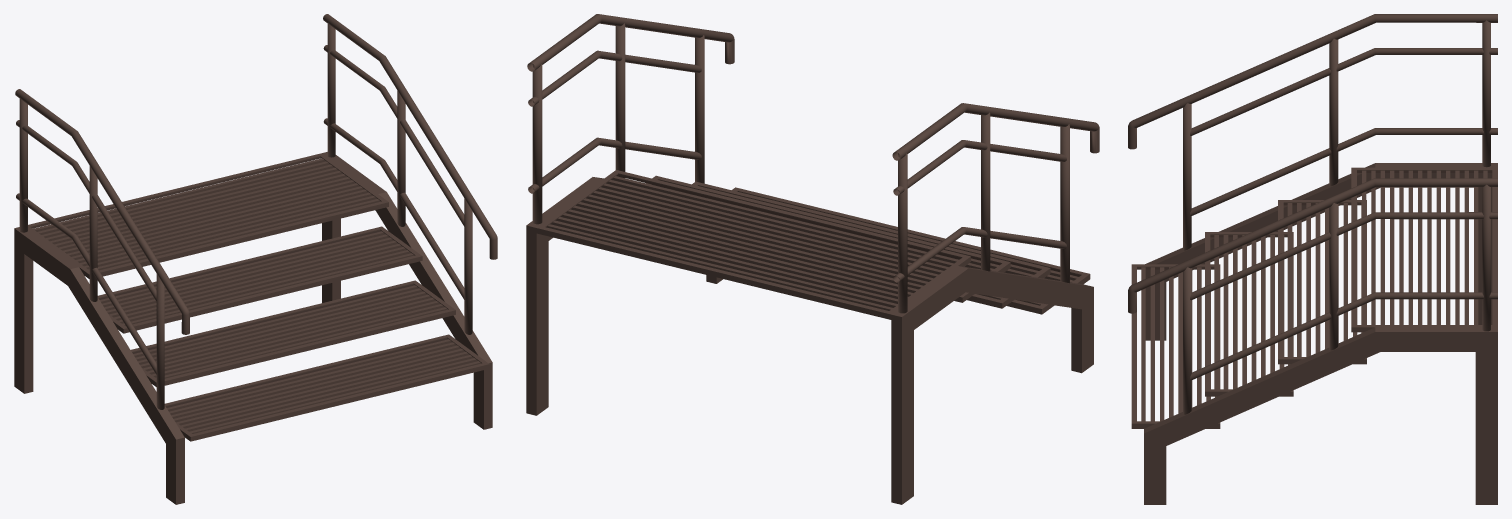
Rendered from entrance-stairs-porch-perron-stoop-with-railings.fbx.
3 renders of one model, left to right at view 1: azimuth 30°, elevation 25°; view 2: azimuth 150°, elevation 25°; view 3: azimuth 270°, elevation 25°, orthographic. The views are drawn at different scales.
Parts seen in each view (by area): view 1: Cube003_4, Cube001_41, Cube002_46, Cube_51, Cube004_35, Cube005_5, Cube011_36, Cube018_25, Cube021_30, Plane001_37, Plane009_42, Plane002_47 (+19 smaller); view 2: Cube003_4, Cube005_5, Cube008_8, Plane015_2, Cube004_35, Cube021_30, Cube018_25, Cube007_7, Plane013_0, Cylinder003_19, Cube006_6, Cylinder004_20 (+12 smaller); view 3: Cube003_4, Cube011_36, Cube002_46, Cube001_41, Cube_51, Cube018_25, Cube021_30, Cube008_8, Cube010_10, Cube004_35, Cube023_32, Cube022_31 (+19 smaller).
Boxes of the visible parts, x1,y1,x2,y2 form: Cube003_4: (33,158,380,270); Cube001_41: (167,339,481,433); Cube002_46: (133,285,447,378); Cube_51: (99,231,414,325); Cube004_35: (68,267,184,443); Cube005_5: (14,247,33,393); Cube011_36: (375,192,492,363); Cube018_25: (15,89,189,334); Cube021_30: (323,14,497,259); Plane001_37: (190,363,489,441); Plane009_42: (156,309,455,385); Plane002_47: (123,255,422,333); Cube003_4: (546,176,958,310); Cube005_5: (891,330,913,504); Cube008_8: (526,241,548,415); Plane015_2: (537,227,891,319); Cube004_35: (959,266,1093,309); Cube021_30: (527,14,734,71); Cube018_25: (892,103,1099,160); Cube007_7: (891,266,968,338); Plane013_0: (616,170,970,261); Cylinder003_19: (532,64,542,224); Cube006_6: (1071,287,1093,373); Cylinder004_20: (615,23,625,177); Cube003_4: (1362,170,1487,324); Cube011_36: (1144,327,1380,445); Cube002_46: (1214,235,1284,389); Cube001_41: (1141,267,1210,421); Cube_51: (1287,203,1357,356); Cube018_25: (1128,14,1497,149); Cube021_30: (1128,178,1497,313); Cube008_8: (1475,352,1497,504); Cube010_10: (1375,327,1497,351); Cube004_35: (1145,163,1380,281); Cube023_32: (1190,292,1497,380); Cube022_31: (1190,212,1497,300).
Bounding box in the file's own units: 1.8 × 1.61 × 1.67.
